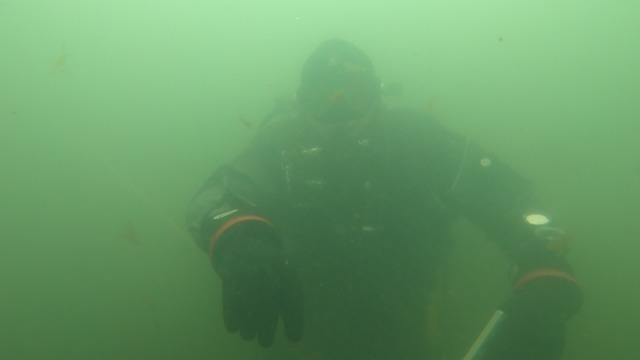Diver: (145, 14, 601, 352)
Hand: (177, 204, 304, 338), (460, 258, 599, 354)
Head: (273, 20, 395, 180)
